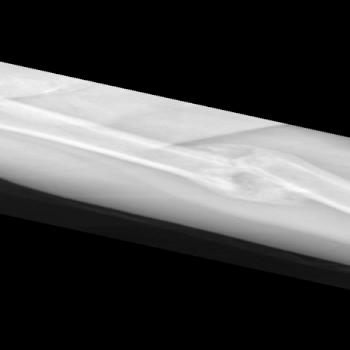Fracture: (203, 144, 300, 219)
